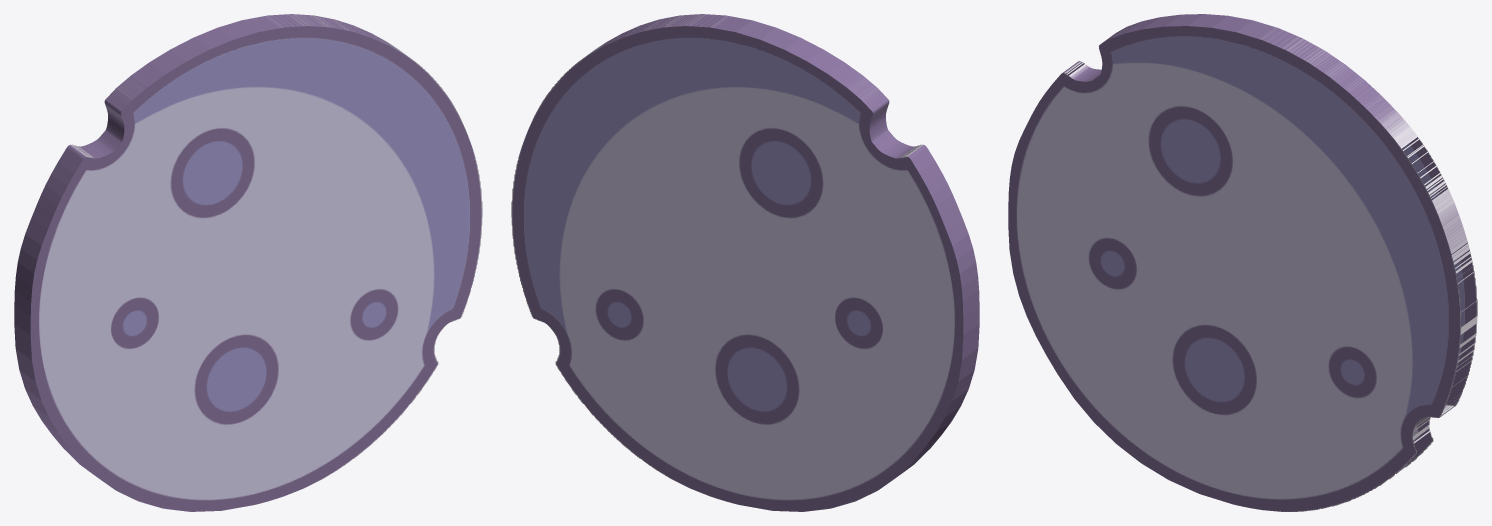
The model's file is Moon.FBX.
The picture shows the model from 3 angles, left to right: view 1: azimuth 30°, elevation 25°; view 2: azimuth 150°, elevation 25°; view 3: azimuth 330°, elevation 25°; orthographic projection.
Visible parts, largest first — view 1: Moon; view 2: Moon; view 3: Moon.
Boxes of the visible parts, x1,y1,x2,y2 form: Moon: (14, 14, 482, 511); Moon: (511, 14, 979, 511); Moon: (1008, 14, 1477, 511).
Size of the model in its own units: 37.37 by 37.27 by 2.34.
Materials: 1 (1 with a texture image).
